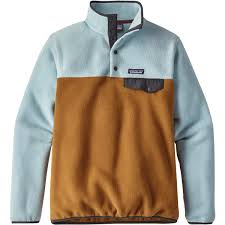T-Shirt: (8, 1, 218, 225)
